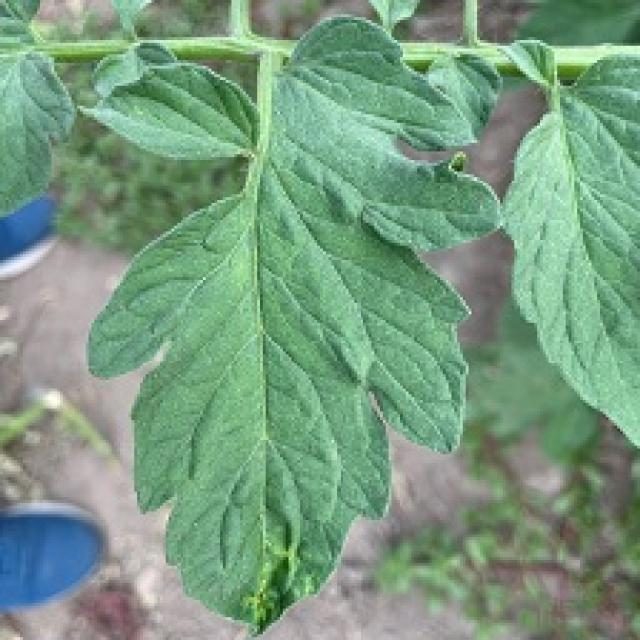Healthy: (0, 0, 615, 640)
